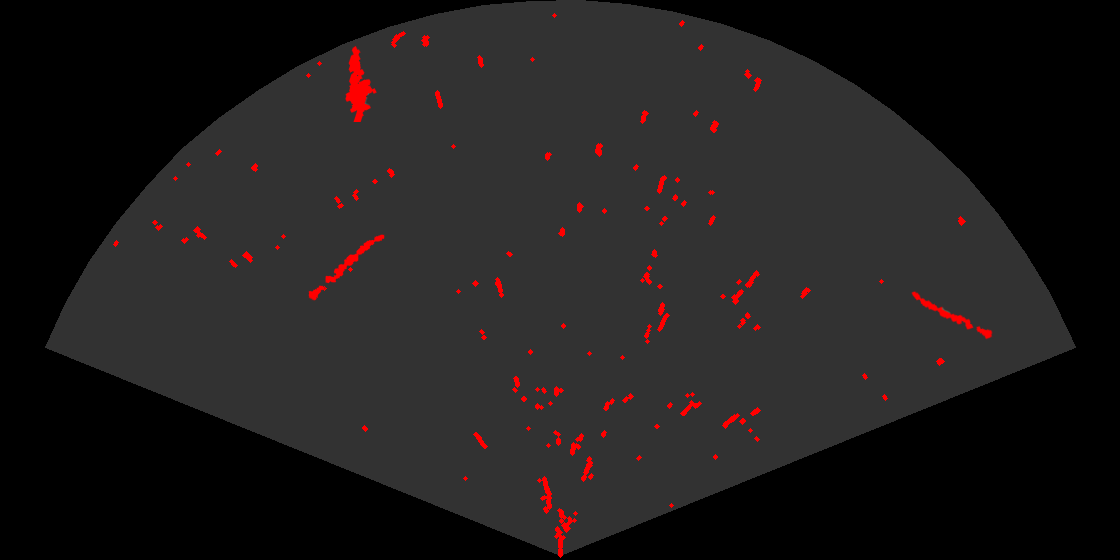chain: (307, 233, 386, 302), (910, 290, 995, 341)
frogman: (344, 44, 378, 122)
